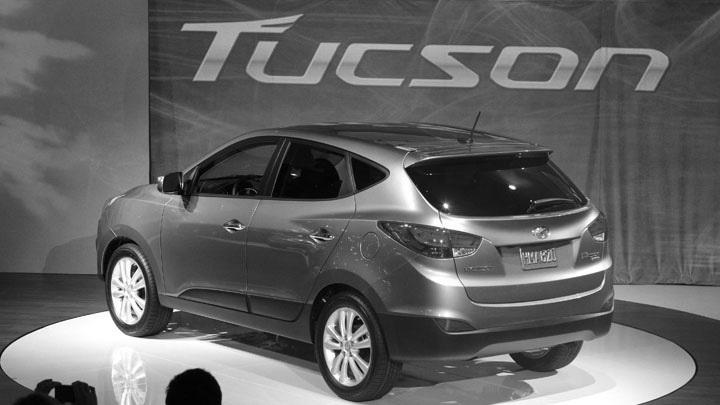car: (95, 124, 617, 401)
